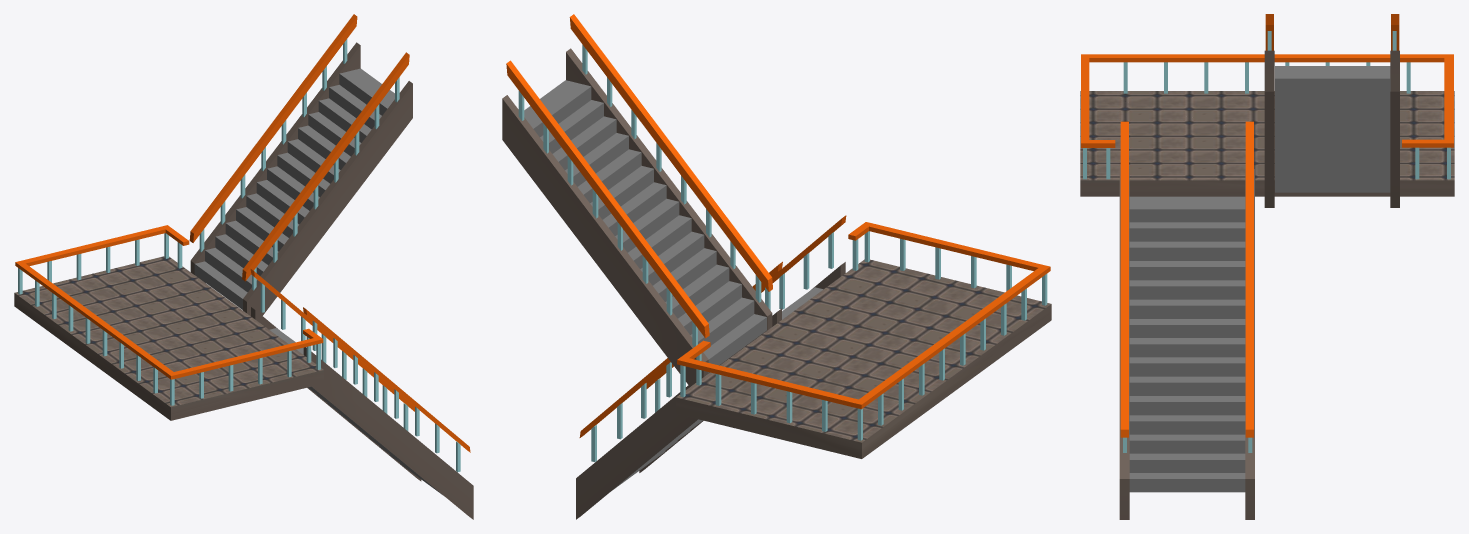
Rendered from Ladder.fbx.
3 renders of one model, left to right at view 1: azimuth 30°, elevation 25°; view 2: azimuth 150°, elevation 25°; view 3: azimuth 270°, elevation 25°, orthographic. The views are drawn at different scales.
Parts seen in each view (by area): view 1: Plane.004, Steps 2.001, Railings 2.003, Railings 3.002, Railings 1.002, Railings 4.002, Steps 2.002; view 2: Plane.004, Steps 2.001, Railings 2.003, Railings 3.002, Railings 4.002, Railings 1.002, Steps 2.002; view 3: Steps 2.002, Plane.004, Steps 2.001, Railings 1.002, Railings 3.002, Railings 4.002, Railings 2.003.
Boxes of the visible parts, x1,y1,x2,y2 form: Plane.004: (14, 42, 473, 519); Steps 2.001: (194, 68, 394, 309); Railings 2.003: (189, 14, 409, 290); Railings 3.002: (15, 225, 323, 379); Railings 1.002: (250, 269, 470, 472); Railings 4.002: (18, 233, 320, 405); Steps 2.002: (269, 328, 442, 494); Plane.004: (502, 48, 1051, 519); Steps 2.001: (524, 80, 766, 372); Railings 2.003: (506, 14, 772, 346); Railings 3.002: (677, 222, 1050, 409); Railings 4.002: (680, 231, 1047, 440); Railings 1.002: (579, 215, 846, 461); Steps 2.002: (612, 287, 823, 490); Steps 2.002: (1129, 196, 1245, 492); Plane.004: (1080, 50, 1454, 519); Steps 2.001: (1275, 66, 1390, 192); Railings 1.002: (1120, 121, 1253, 452); Railings 3.002: (1081, 54, 1453, 147); Railings 4.002: (1083, 62, 1450, 179); Railings 2.003: (1265, 14, 1399, 50).
Size of the model in its own units: 921 by 1161 by 781.
